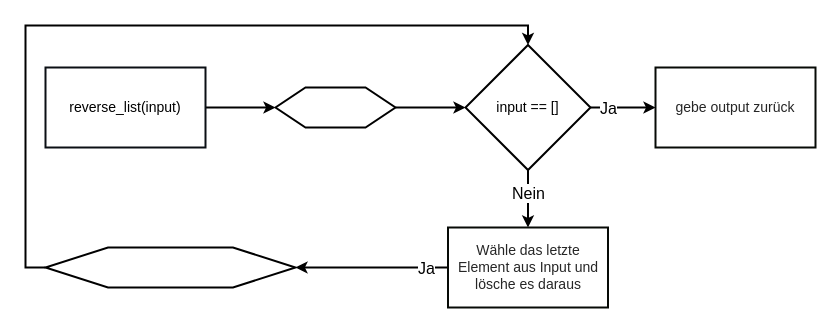
Image size: 833x325. Some labels were removed from this diagram. Each missing label, with the centre of its shape:
"append(Output, Element)" belongs at (x=170, y=267).
"output = []" belongs at (x=335, y=107).
